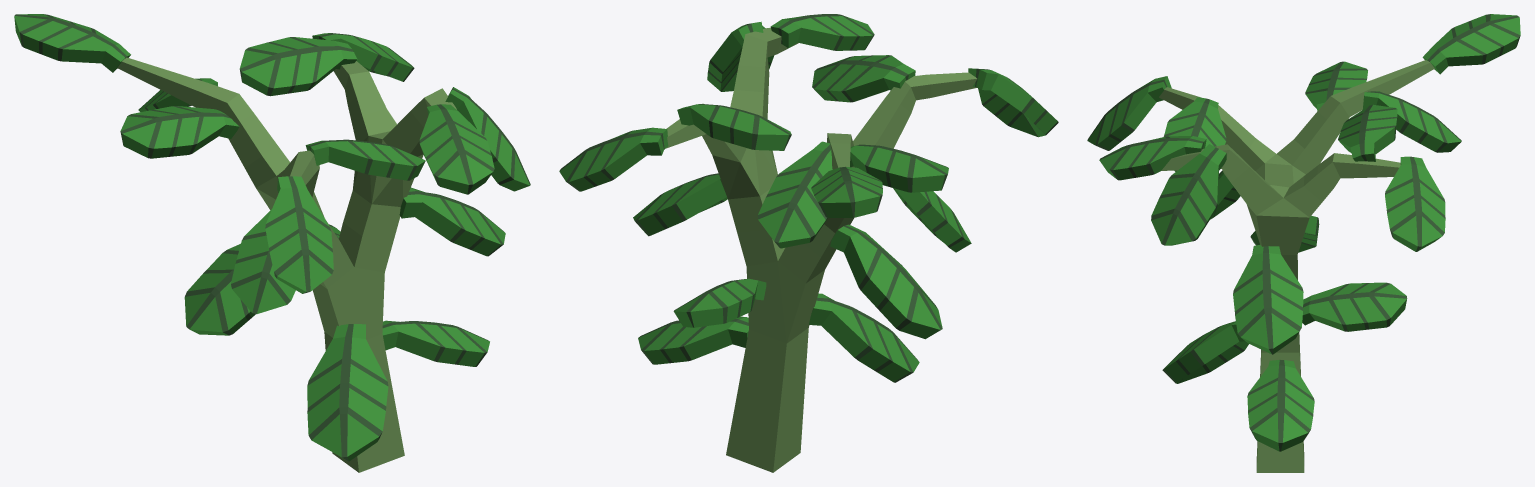
The model's file is Pepper plant.fbx.
3 views of the same model, side by side, from view 1: azimuth 30°, elevation 25°; view 2: azimuth 150°, elevation 25°; view 3: azimuth 270°, elevation 25° (orthographic). The views are drawn at different scales.
Visible parts, largest first — view 1: Pepper plant; view 2: Pepper plant; view 3: Pepper plant.
Boxes of the visible parts, <box> form: Pepper plant: <box>14,14,530,472</box>; Pepper plant: <box>559,14,1058,472</box>; Pepper plant: <box>1087,14,1520,472</box>.
Size of the model in its own units: 114 by 121 by 132.
